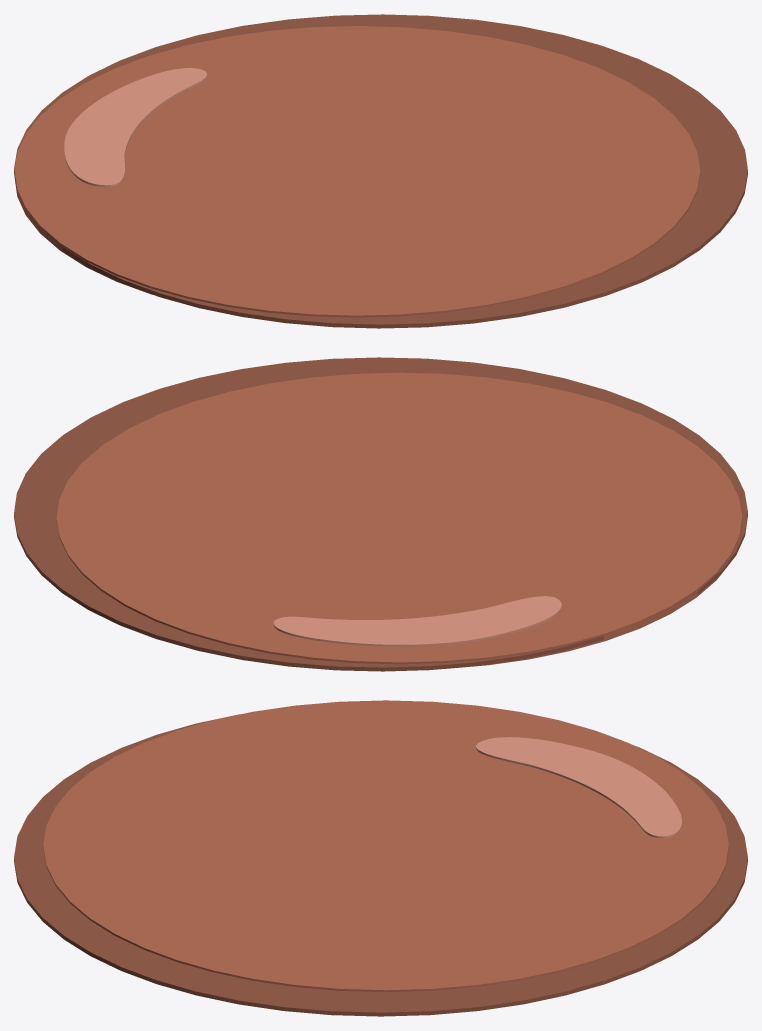
The model's file is emoji_u1f7e4.glb.
3 renders of one model, top to bottom at view 1: azimuth 30°, elevation 25°; view 2: azimuth 150°, elevation 25°; view 3: azimuth 270°, elevation 25°, orthographic.
Parts seen in each view (by area): view 1: emoji_u1f7e4; view 2: emoji_u1f7e4; view 3: emoji_u1f7e4.
Part boxes in pixels (box(x1,y1,x2,y2)): emoji_u1f7e4: box(14, 14, 747, 328); emoji_u1f7e4: box(14, 357, 747, 671); emoji_u1f7e4: box(14, 700, 747, 1016).
Size of the model in its own units: 0.0339 by 0.0006 by 0.0339.
